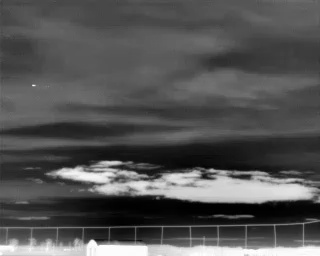AIRPLANE: (30, 81, 38, 89)
